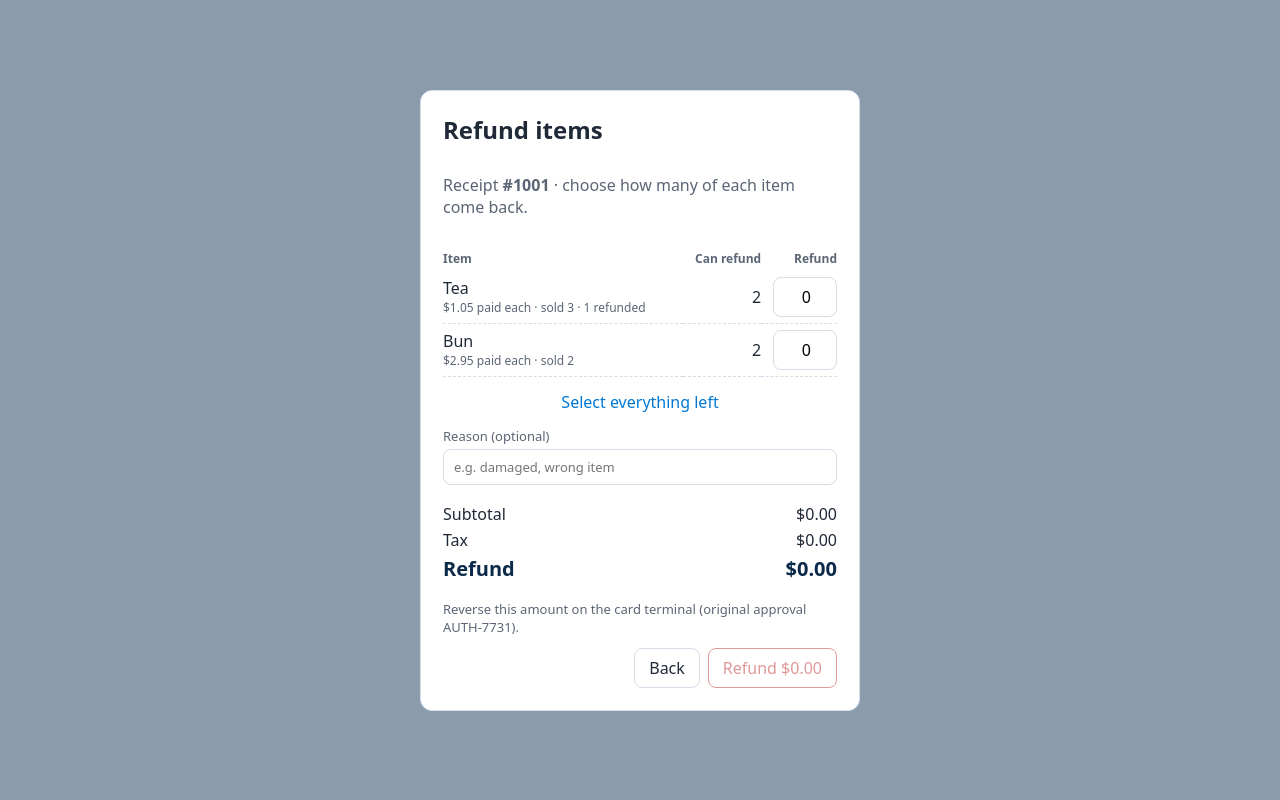
Test case: <RefundItems> › "Select everything left" picks the remaining quantities; server errors are shown
Click the button "Select everything left" at coordinates (640, 402), box [443,388,837,414]
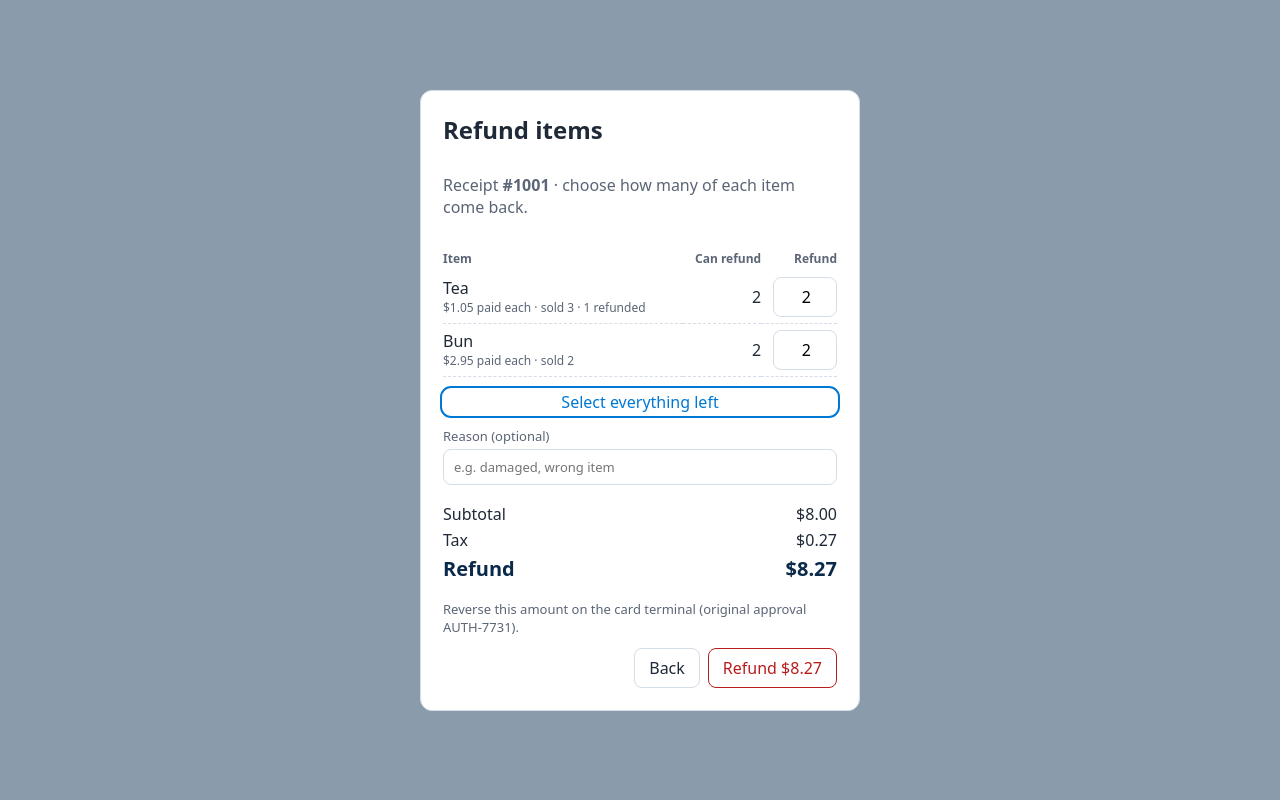
expect the number field named "Refund quantity for Tea" holds "2": met, box [773,276,837,316]
expect the text with test id "refund-total" reads "$8.27": met, box [786,554,837,582]
Click the button "Refund $8.27" at coordinates (772, 668), box [708,648,837,688]
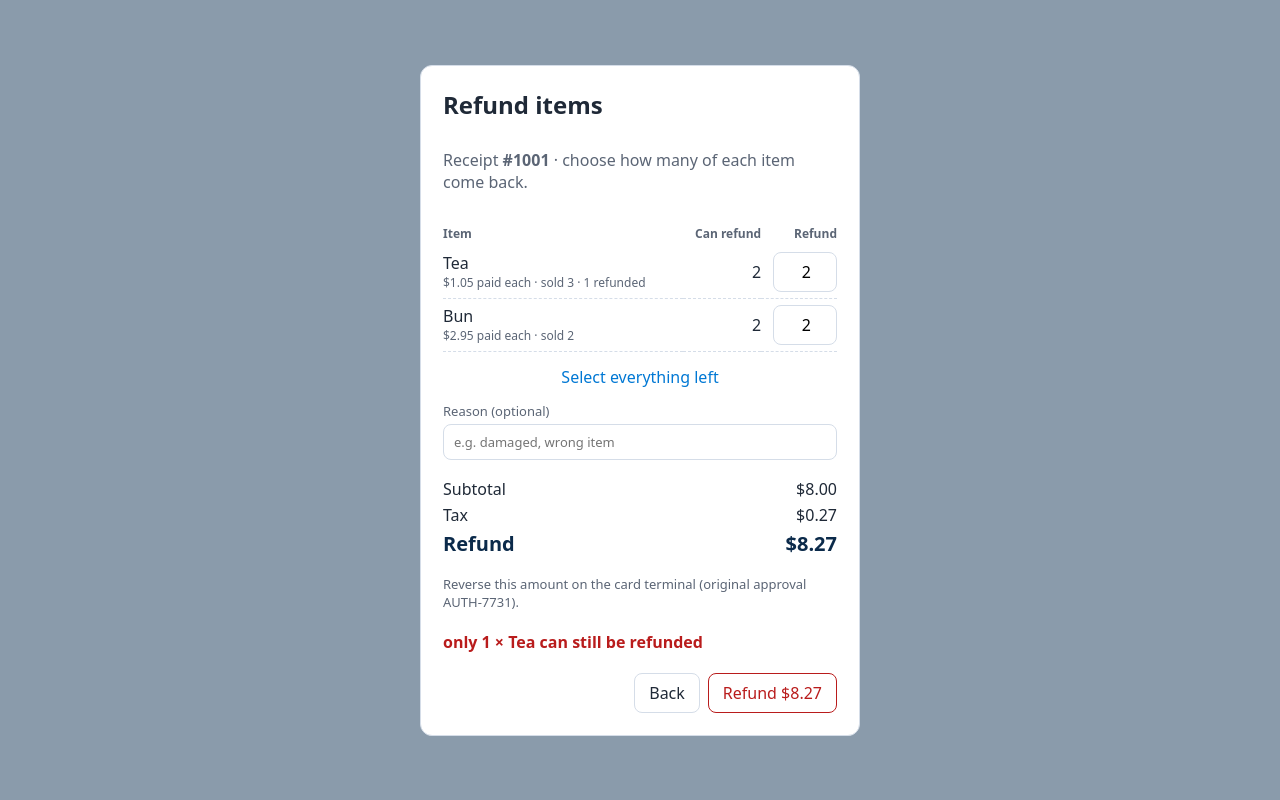
expect the message shows "only 1 × Tea": met, box [443,630,703,652]
